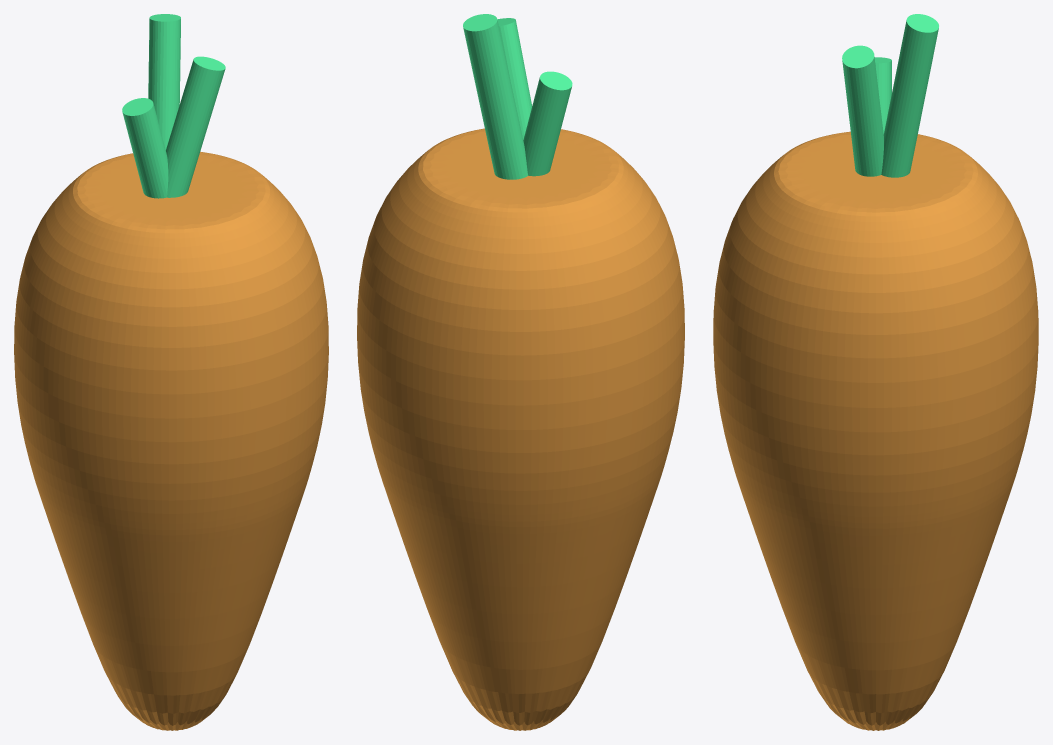
File: carrot.fbx
The picture shows the model from 3 angles, left to right: view 1: azimuth 30°, elevation 25°; view 2: azimuth 150°, elevation 25°; view 3: azimuth 270°, elevation 25°; orthographic projection. The views are drawn at different scales.
Parts seen in each view (by area): view 1: Cylinder, Cylinder.003, Cylinder.002, Cylinder.001; view 2: Cylinder, Cylinder.002, Cylinder.001, Cylinder.003; view 3: Cylinder, Cylinder.002, Cylinder.003, Cylinder.001.
Boxes of the visible parts, x1,y1,x2,y2 form: Cylinder: [14, 151, 328, 730]; Cylinder.003: [166, 56, 225, 197]; Cylinder.002: [148, 14, 180, 149]; Cylinder.001: [122, 98, 168, 198]; Cylinder: [357, 128, 684, 730]; Cylinder.002: [463, 14, 527, 179]; Cylinder.001: [523, 71, 572, 176]; Cylinder.003: [497, 18, 532, 139]; Cylinder: [713, 131, 1038, 730]; Cylinder.002: [881, 14, 938, 177]; Cylinder.003: [842, 45, 883, 176]; Cylinder.001: [874, 57, 891, 133].
Size of the model in its own units: 137 by 333 by 137.
